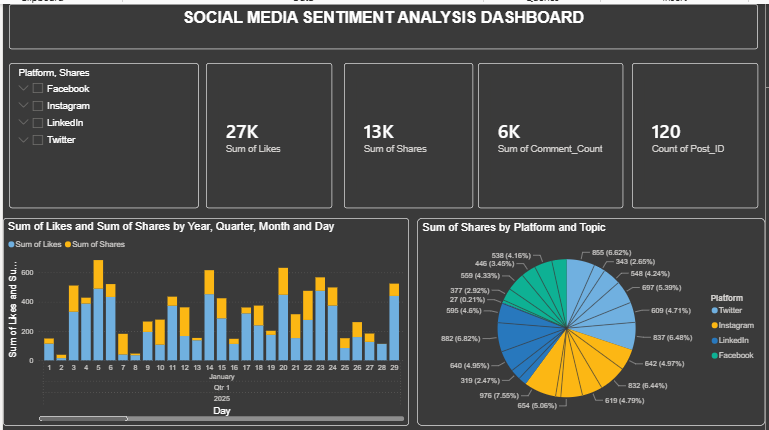

Layout of this report page (visuals, bound fields, positions):
{"tool":"powerbi","page":{"name":"Page 1","canvas":[1280,720],"ordinal":0},"visuals":[{"type":"textbox","box":[10.1,0,1258.2,75.6],"z":0},{"type":"columnChart","fields":{"Y":["Sum(social media sentiment Project.Likes)","Sum(social media sentiment Project.Shares)"],"Category":["social media sentiment Project.Date.Variation.Date Hierarchy.Year","social media sentiment Project.Date.Variation.Date Hierarchy.Quarter","social media sentiment Project.Date.Variation.Date Hierarchy.Month","social media sentiment Project.Date.Variation.Date Hierarchy.Day"]},"box":[0,359.5,682,349.4],"z":1000},{"type":"pieChart","fields":{"Category":["social media sentiment Project.Platform"],"Series":["social media sentiment Project.Topic"],"Y":["Sum(social media sentiment Project.Shares)"]},"box":[695.4,359.5,584.6,349.4],"z":2000},{"type":"cardVisual","fields":{"Data":["CountNonNull(social media sentiment Project.Post_ID)"]},"box":[1056.6,99.1,211.7,243.6],"z":3000},{"type":"cardVisual","fields":{"Data":["Sum(social media sentiment Project.Comment_Count)"]},"box":[797.9,99.1,243.6,243.6],"z":4000},{"type":"cardVisual","fields":{"Data":["Sum(social media sentiment Project.Shares)"]},"box":[572.8,99.1,216.7,243.6],"z":5000},{"type":"cardVisual","fields":{"Data":["Sum(social media sentiment Project.Likes)"]},"box":[341,99.1,211.7,243.6],"z":6000},{"type":"slicer","fields":{"Values":["social media sentiment Project.Platform","social media sentiment Project.Shares"]},"box":[10.1,99.1,319.2,243.6],"z":7000}]}

Visuals, with their boxes in screenshot pixels (x1, y1, x2, y2), scaled from the page's 1280x720 canvas onto the 769x430 screenshot:
textbox: (left=6, top=0, right=762, bottom=45)
columnChart - Sum(social media sentiment Project.Likes) x Sum(social media sentiment Project.Shares): (left=0, top=215, right=410, bottom=423)
pieChart - social media sentiment Project.Platform x social media sentiment Project.Topic: (left=418, top=215, right=768, bottom=423)
cardVisual - CountNonNull(social media sentiment Project.Post_ID): (left=635, top=59, right=762, bottom=205)
cardVisual - Sum(social media sentiment Project.Comment_Count): (left=479, top=59, right=626, bottom=205)
cardVisual - Sum(social media sentiment Project.Shares): (left=344, top=59, right=474, bottom=205)
cardVisual - Sum(social media sentiment Project.Likes): (left=205, top=59, right=332, bottom=205)
slicer - social media sentiment Project.Platform x social media sentiment Project.Shares: (left=6, top=59, right=198, bottom=205)
